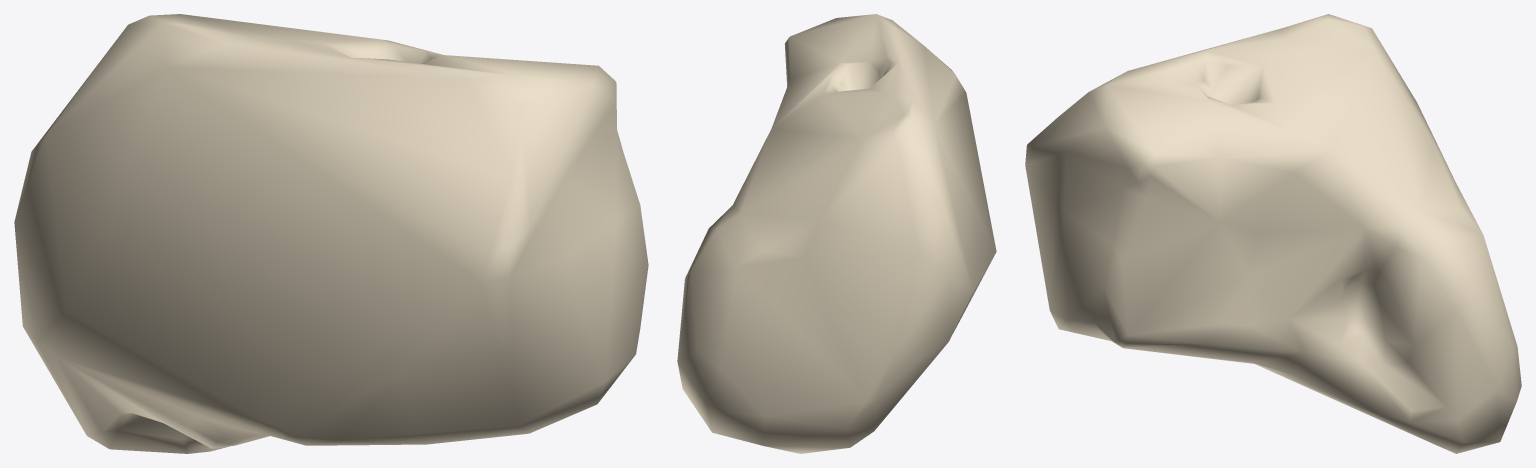
File: trapezoid-bone-r.glb
3 views of the same model, side by side, from view 1: azimuth 30°, elevation 25°; view 2: azimuth 150°, elevation 25°; view 3: azimuth 270°, elevation 25° (orthographic). The views are drawn at different scales.
Parts seen in each view (by area): view 1: Trapezoid bone.r; view 2: Trapezoid bone.r; view 3: Trapezoid bone.r.
Boxes of the visible parts, bbox=[...] form: Trapezoid bone.r: bbox=[14, 14, 648, 453]; Trapezoid bone.r: bbox=[677, 14, 996, 453]; Trapezoid bone.r: bbox=[1025, 14, 1521, 453].
Bounding box in the file's own units: 0.0117 × 0.0131 × 0.0155.
